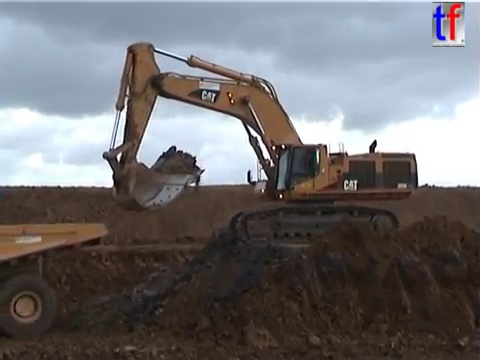excavator: (99, 40, 421, 247)
truck: (1, 220, 111, 340)
